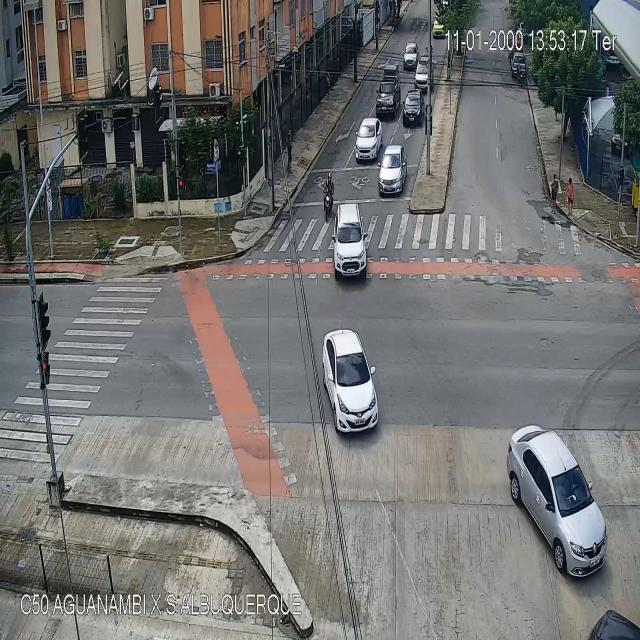Car: (508, 422, 609, 580), (322, 329, 377, 431), (331, 201, 368, 278), (377, 143, 407, 195), (354, 117, 380, 161), (376, 76, 400, 120), (403, 89, 424, 123), (415, 61, 433, 92), (511, 53, 527, 80), (403, 42, 418, 68), (432, 17, 446, 39)
Motorcycle: (322, 172, 333, 223), (517, 64, 522, 84)
